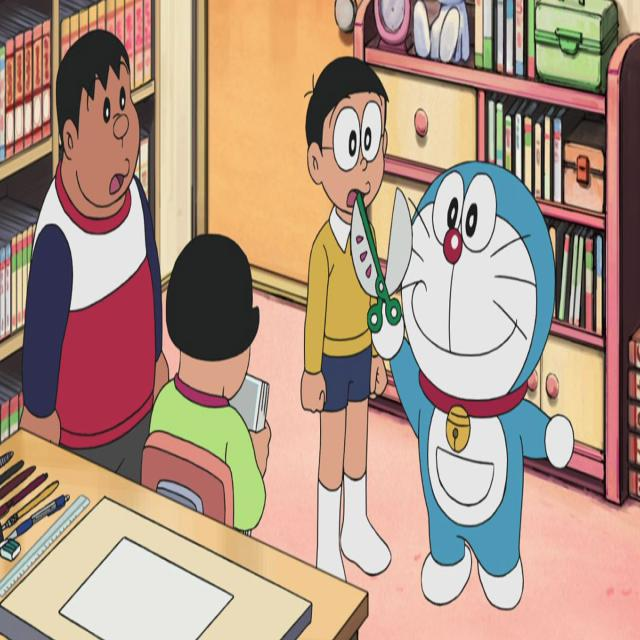doraemon: (398, 152, 558, 460)
jaian: (54, 27, 150, 220)
nobita: (302, 50, 399, 252)
